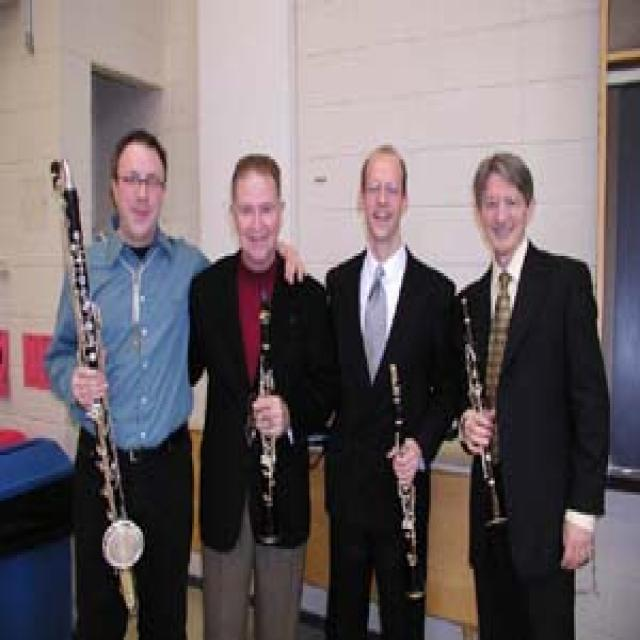clarinet: (457, 292, 512, 532), (384, 361, 430, 612), (250, 284, 279, 549)
